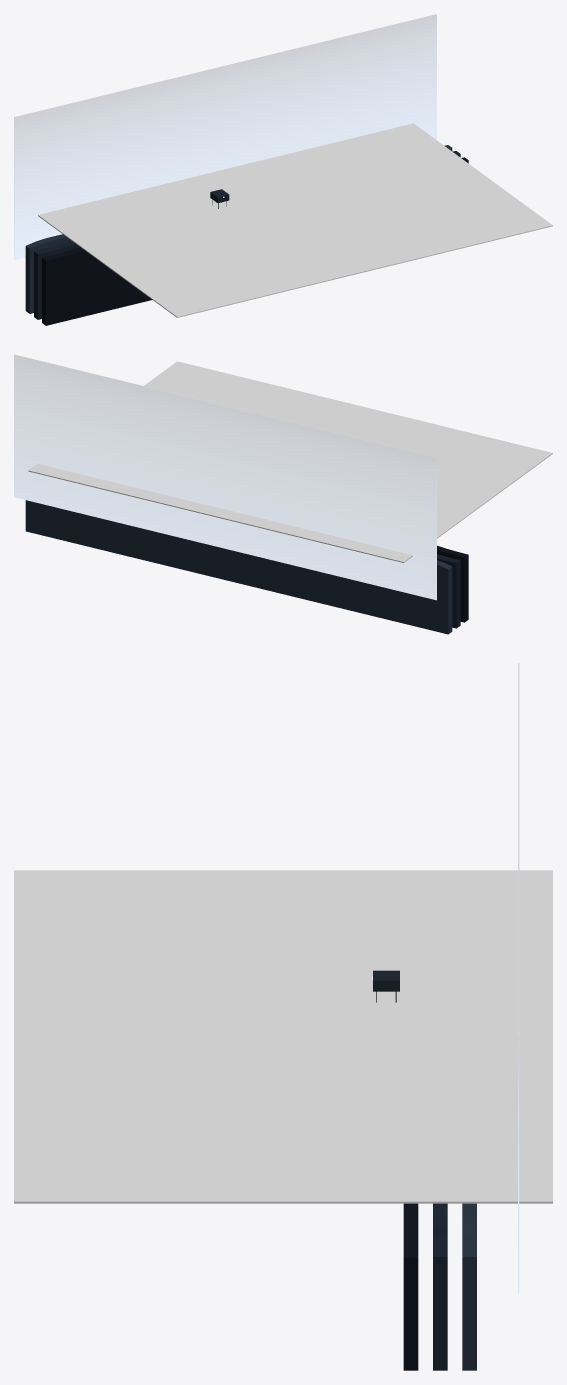
Rendered from watchtower.glb.
The picture shows the model from 3 angles, top to bottom: view 1: azimuth 30°, elevation 25°; view 2: azimuth 150°, elevation 25°; view 3: azimuth 270°, elevation 25°; orthographic projection. The views are drawn at different scales.
Visible parts, largest first — view 1: Ground contact / transparent shadow receiver.014, Sky gradient / editable material.014, World / terrain and architecture.012; view 2: Sky gradient / editable material.014, Ground contact / transparent shadow receiver.014, World / terrain and architecture.012; view 3: Ground contact / transparent shadow receiver.014, World / terrain and architecture.012, Sky gradient / editable material.014.
Boxes of the visible parts, x1,y1,x2,y2 form: Ground contact / transparent shadow receiver.014: (38, 123, 552, 317); Sky gradient / editable material.014: (14, 14, 436, 259); World / terrain and architecture.012: (25, 145, 468, 325); Sky gradient / editable material.014: (14, 354, 436, 600); Ground contact / transparent shadow receiver.014: (28, 361, 552, 562); World / terrain and architecture.012: (25, 500, 468, 634); Ground contact / transparent shadow receiver.014: (14, 870, 552, 1203); World / terrain and architecture.012: (373, 970, 476, 1370); Sky gradient / editable material.014: (518, 663, 519, 1293).
Bounding box in the file's own units: 180 × 75.4 × 110.
